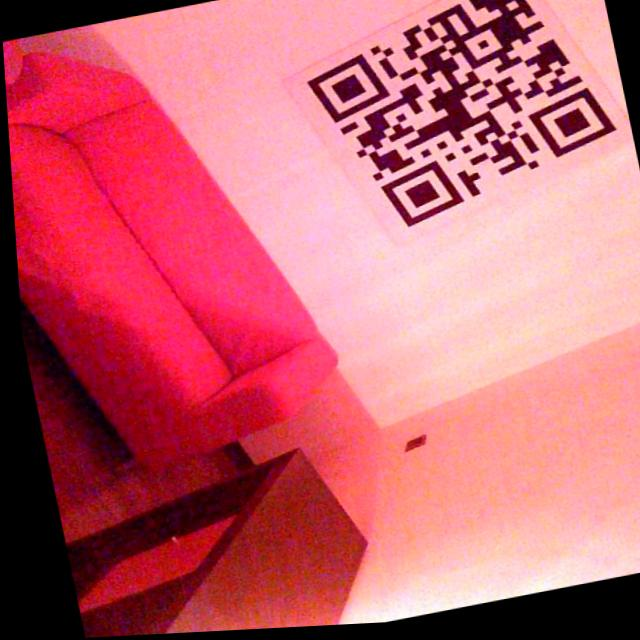qrcode: (292, 1, 625, 246)
